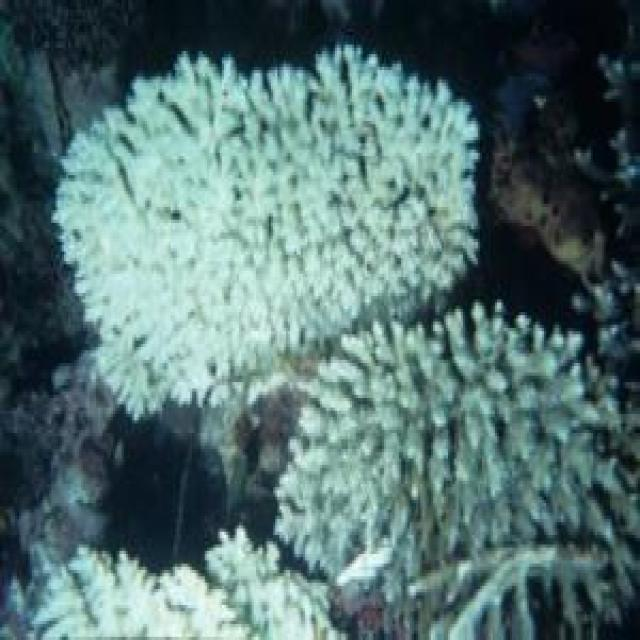bleached coral: (222, 290, 363, 376), (284, 443, 382, 560), (105, 271, 186, 404), (205, 532, 320, 624), (350, 64, 469, 140), (235, 102, 363, 172), (162, 137, 273, 213), (70, 551, 203, 608), (369, 188, 444, 261), (62, 121, 124, 201), (139, 204, 201, 277)
healthy coral: (476, 509, 593, 570), (497, 398, 555, 474), (429, 363, 467, 465)
